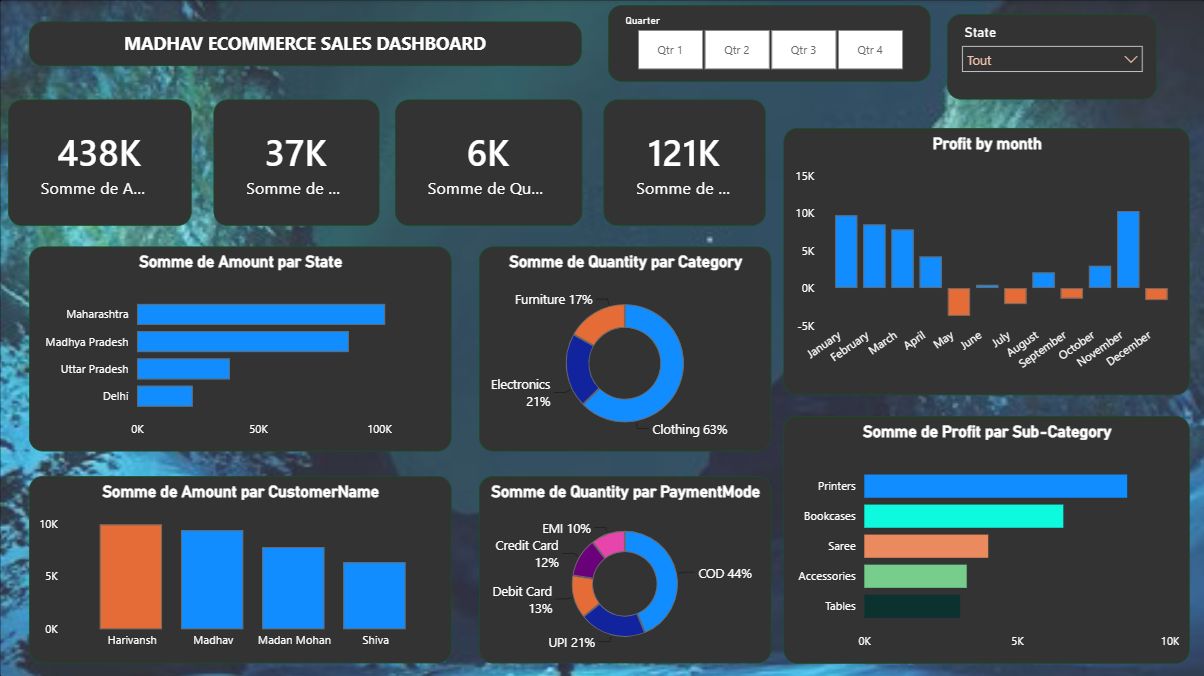

The page's visual inventory and layout, read from the dashboard file:
{"tool":"powerbi","page":{"name":"Page 1","canvas":[1280,720],"ordinal":0},"visuals":[{"type":"textbox","box":[32.1,24.6,585.8,47.2],"z":0},{"type":"columnChart","title":"Profit by month","fields":{"Category":["Orders.Order Date.Variation.Date Hierarchy.Month"],"Y":["Sum(Details.Profit)"]},"box":[831.5,136.1,430.9,283.5],"z":1000},{"type":"barChart","fields":{"Category":["Details.Sub-Category"],"Y":["Sum(Details.Profit)"]},"box":[831.5,442.2,430.9,262.7],"z":2000},{"type":"donutChart","fields":{"Category":["Details.Category"],"Y":["Sum(Details.Quantity)"]},"box":[508.4,262.7,309.9,217.3],"z":3000},{"type":"donutChart","fields":{"Y":["Sum(Details.Quantity)"],"Category":["Details.PaymentMode"]},"box":[508.4,506.5,309.9,198.4],"z":4000},{"type":"cardVisual","fields":{"Data":["Sum(Details.Amount)"]},"box":[9.4,105.8,194.6,134.2],"z":5000},{"type":"cardVisual","fields":{"Data":["Sum(Details.Profit)"]},"box":[226.8,105.8,175.7,134.2],"z":6000},{"type":"cardVisual","fields":{"Data":["Sum(Details.Quantity)"]},"box":[419.5,105.8,198.4,134.2],"z":7000},{"type":"cardVisual","fields":{"Data":["Sum(Details.AOV)"]},"box":[640.6,105.8,172,134.2],"z":8000},{"type":"barChart","fields":{"Category":["Orders.State"],"Y":["Sum(Details.Amount)"]},"box":[32.1,262.7,447.9,217.3],"z":9000},{"type":"columnChart","fields":{"Y":["Sum(Details.Amount)"],"Category":["Orders.CustomerName"]},"box":[32.1,506.5,447.9,198.4],"z":10000},{"type":"slicer","fields":{"Values":["Orders.Order Date.Variation.Date Hierarchy.Quarter"]},"box":[646.3,5.7,342,81.3],"z":11000},{"type":"slicer","fields":{"Values":["Orders.State"]},"box":[1005.4,15.1,223,90.7],"z":12000}]}

Visuals, with their boxes in screenshot pixels (x1, y1, x2, y2), scaled from the page's 1280x720 canvas onto the 1204x676 screenshot:
textbox: [30,23,581,67]
"Profit by month" columnChart: [782,128,1187,394]
barChart - Details.Sub-Category x Sum(Details.Profit): [782,415,1187,662]
donutChart - Details.Category x Sum(Details.Quantity): [478,247,770,451]
donutChart - Sum(Details.Quantity) x Details.PaymentMode: [478,476,770,662]
cardVisual - Sum(Details.Amount): [9,99,192,225]
cardVisual - Sum(Details.Profit): [213,99,379,225]
cardVisual - Sum(Details.Quantity): [395,99,581,225]
cardVisual - Sum(Details.AOV): [603,99,764,225]
barChart - Orders.State x Sum(Details.Amount): [30,247,452,451]
columnChart - Sum(Details.Amount) x Orders.CustomerName: [30,476,452,662]
slicer - Orders.Order Date.Variation.Date Hierarchy.Quarter: [608,5,930,82]
slicer - Orders.State: [946,14,1155,99]
